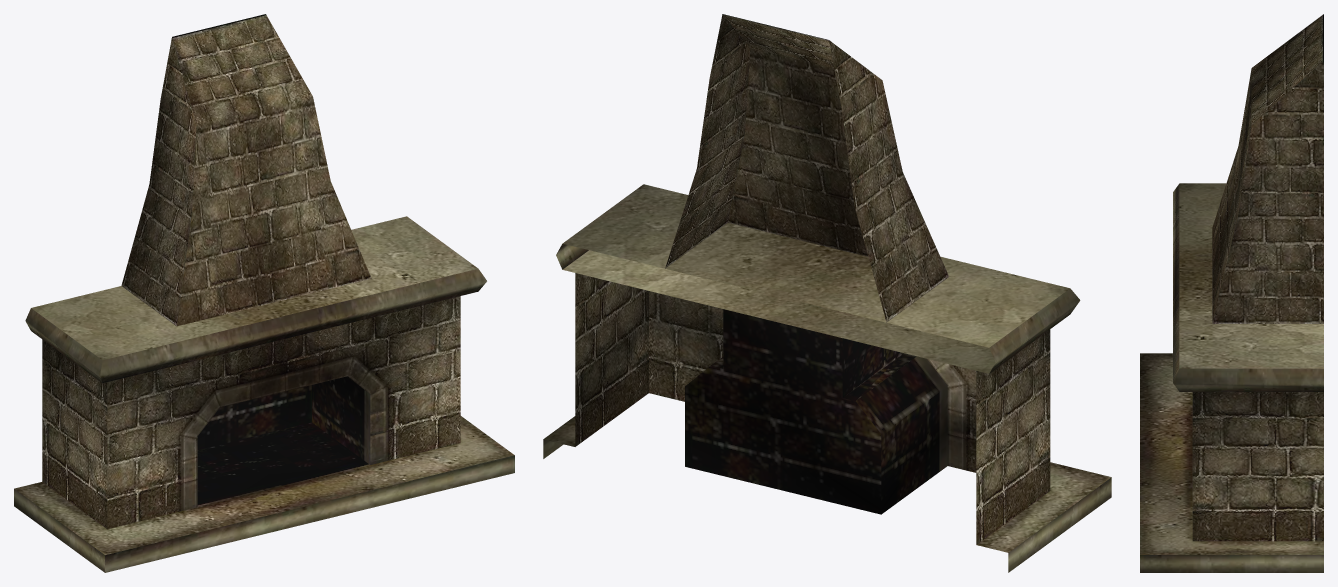
The model's file is NW_CITY_FIREPLACE_LARGE_01.glb.
3 views of the same model, side by side, from view 1: azimuth 30°, elevation 25°; view 2: azimuth 150°, elevation 25°; view 3: azimuth 270°, elevation 25° (orthographic). The views are drawn at different scales.
Visible parts, largest first — view 1: Mesh; view 2: Mesh; view 3: Mesh.
Boxes of the visible parts, bbox=[...] form: Mesh: bbox=[14, 14, 514, 572]; Mesh: bbox=[543, 14, 1111, 572]; Mesh: bbox=[1140, 14, 1323, 572].
Bounding box in the file's own units: 3.63 × 3.65 × 1.4.
Materials: 1 (1 with a texture image).
